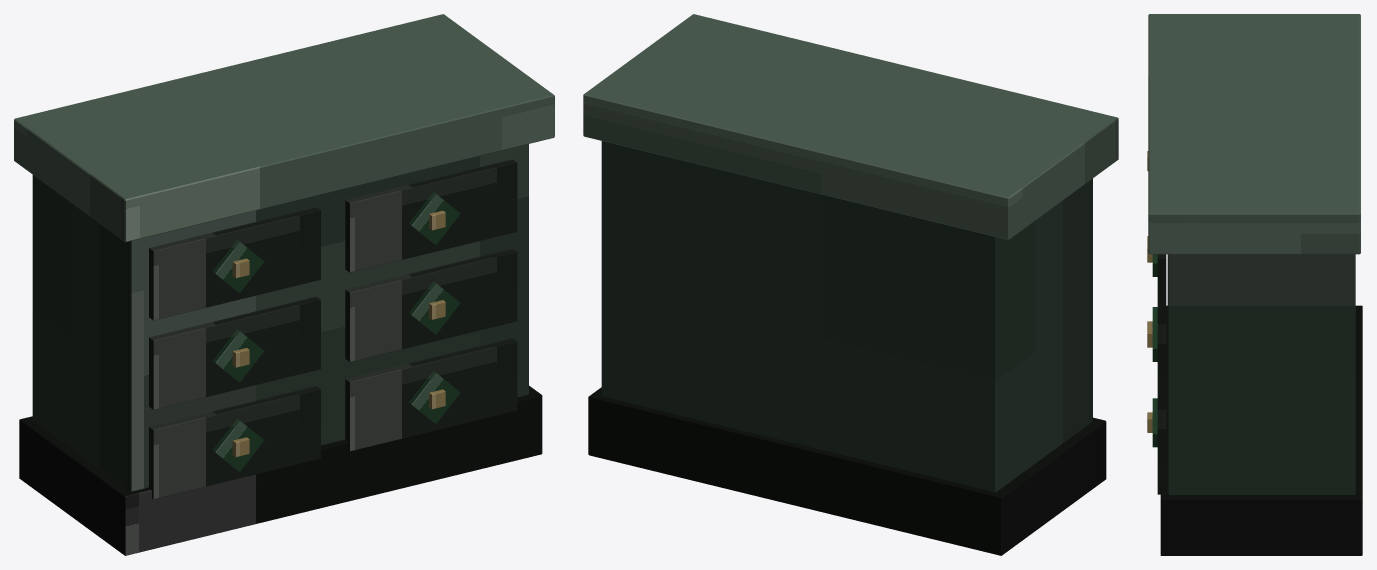
The model's file is gothic_dresser_forest.glb.
3 views of the same model, side by side, from view 1: azimuth 30°, elevation 25°; view 2: azimuth 150°, elevation 25°; view 3: azimuth 270°, elevation 25° (orthographic). The views are drawn at different scales.
Visible parts, largest first — view 1: DresserTop, DresserBody, DresserPlinth, Drawer_0_1, Drawer_1_1, Drawer_2_1, Drawer_1_0, Drawer_0_0, Drawer_2_0, DrawerDiamond_0_1, DrawerDiamond_1_1, DrawerDiamond_0_0 (+3 smaller); view 2: DresserBody, DresserTop, DresserPlinth; view 3: DresserTop, DresserBody, DresserPlinth, Drawer_1_1, Drawer_2_1, Drawer_0_1, DrawerDiamond_2_1, DrawerDiamond_1_1.
Boxes of the visible parts, x1,y1,x2,y2 form: DresserTop: (14,14,554,242); DresserBody: (32,144,528,491); DresserPlinth: (19,385,542,555); Drawer_0_1: (345,159,517,272); Drawer_1_1: (345,249,517,361); Drawer_2_1: (345,338,517,451); Drawer_1_0: (149,296,320,409); Drawer_0_0: (149,207,320,320); Drawer_2_0: (149,386,320,499); DrawerDiamond_0_1: (409,192,460,244); DrawerDiamond_1_1: (409,281,460,334); DrawerDiamond_0_0: (213,240,264,292); DresserBody: (601,141,1092,491); DresserTop: (583,14,1118,239); DresserPlinth: (588,387,1106,555); DresserTop: (1148,14,1360,254); DresserBody: (1167,254,1355,494); DresserPlinth: (1160,305,1362,555); Drawer_1_1: (1157,324,1166,409); Drawer_2_1: (1157,409,1166,494); Drawer_0_1: (1157,254,1166,324); DrawerDiamond_2_1: (1152,398,1157,447); DrawerDiamond_1_1: (1152,313,1157,361).
Size of the model in its own units: 1.36 by 1.09 by 0.618.
Materials: 1 (1 with a texture image).
